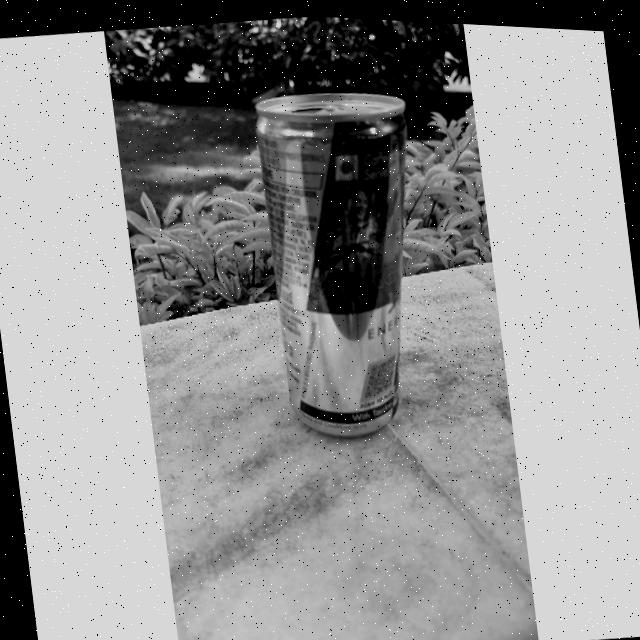Redbull DanceYourStyle: (246, 78, 439, 445)
